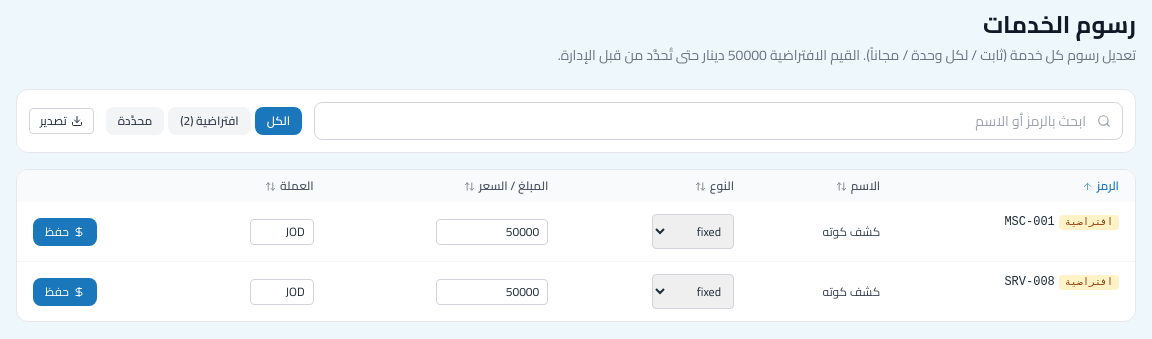
Test case: ServiceFeesAdmin (JORD-85) › search filters by code
This screenshot has width=1152, height=339.
Expected: the row with test id "fee-row-1" is shown, [17,202,1135,262]
Type "SRV" into the field with test id "fee-search" at (719, 121), box [314,102,1123,140]
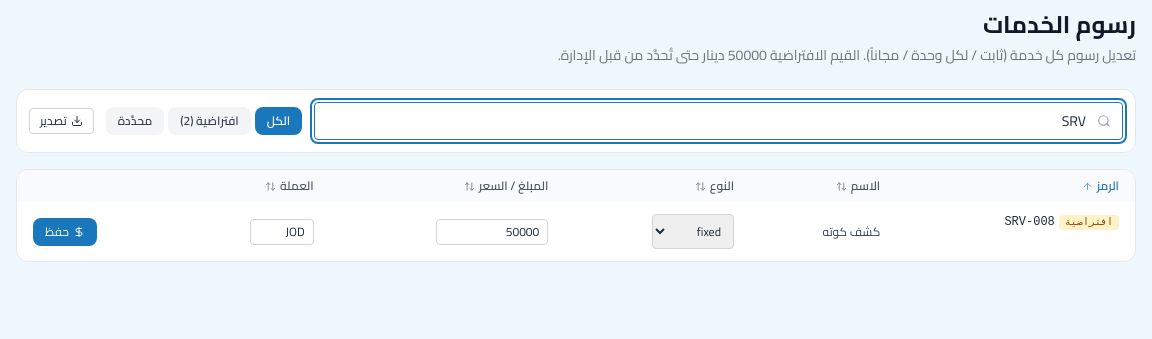
Expected: the row with test id "fee-row-2" is shown, [17,202,1135,261]
Expected: the row with test id "fee-row-1" is gone
